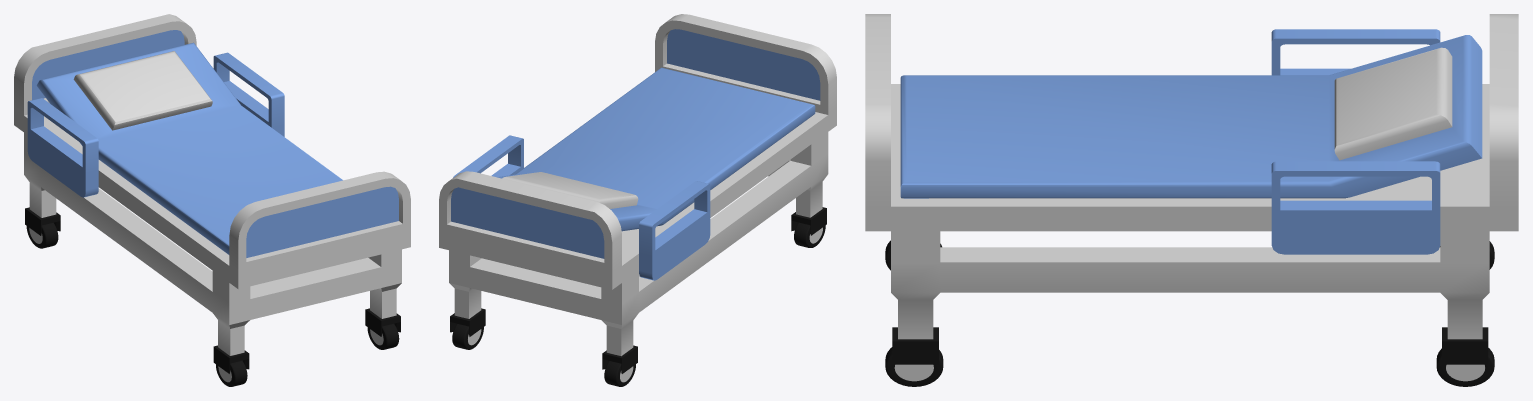
The model's file is hospital_bed.fbx.
3 renders of one model, left to right at view 1: azimuth 30°, elevation 25°; view 2: azimuth 150°, elevation 25°; view 3: azimuth 270°, elevation 25°, orthographic. The views are drawn at different scales.
Visible parts, largest first — view 1: bed; view 2: bed; view 3: bed.
Part boxes in pixels (x1,y1,x2,y2): bed: [14, 14, 410, 386]; bed: [439, 14, 836, 386]; bed: [865, 14, 1518, 386].
Bounding box in the file's own units: 136 × 121 × 266.
